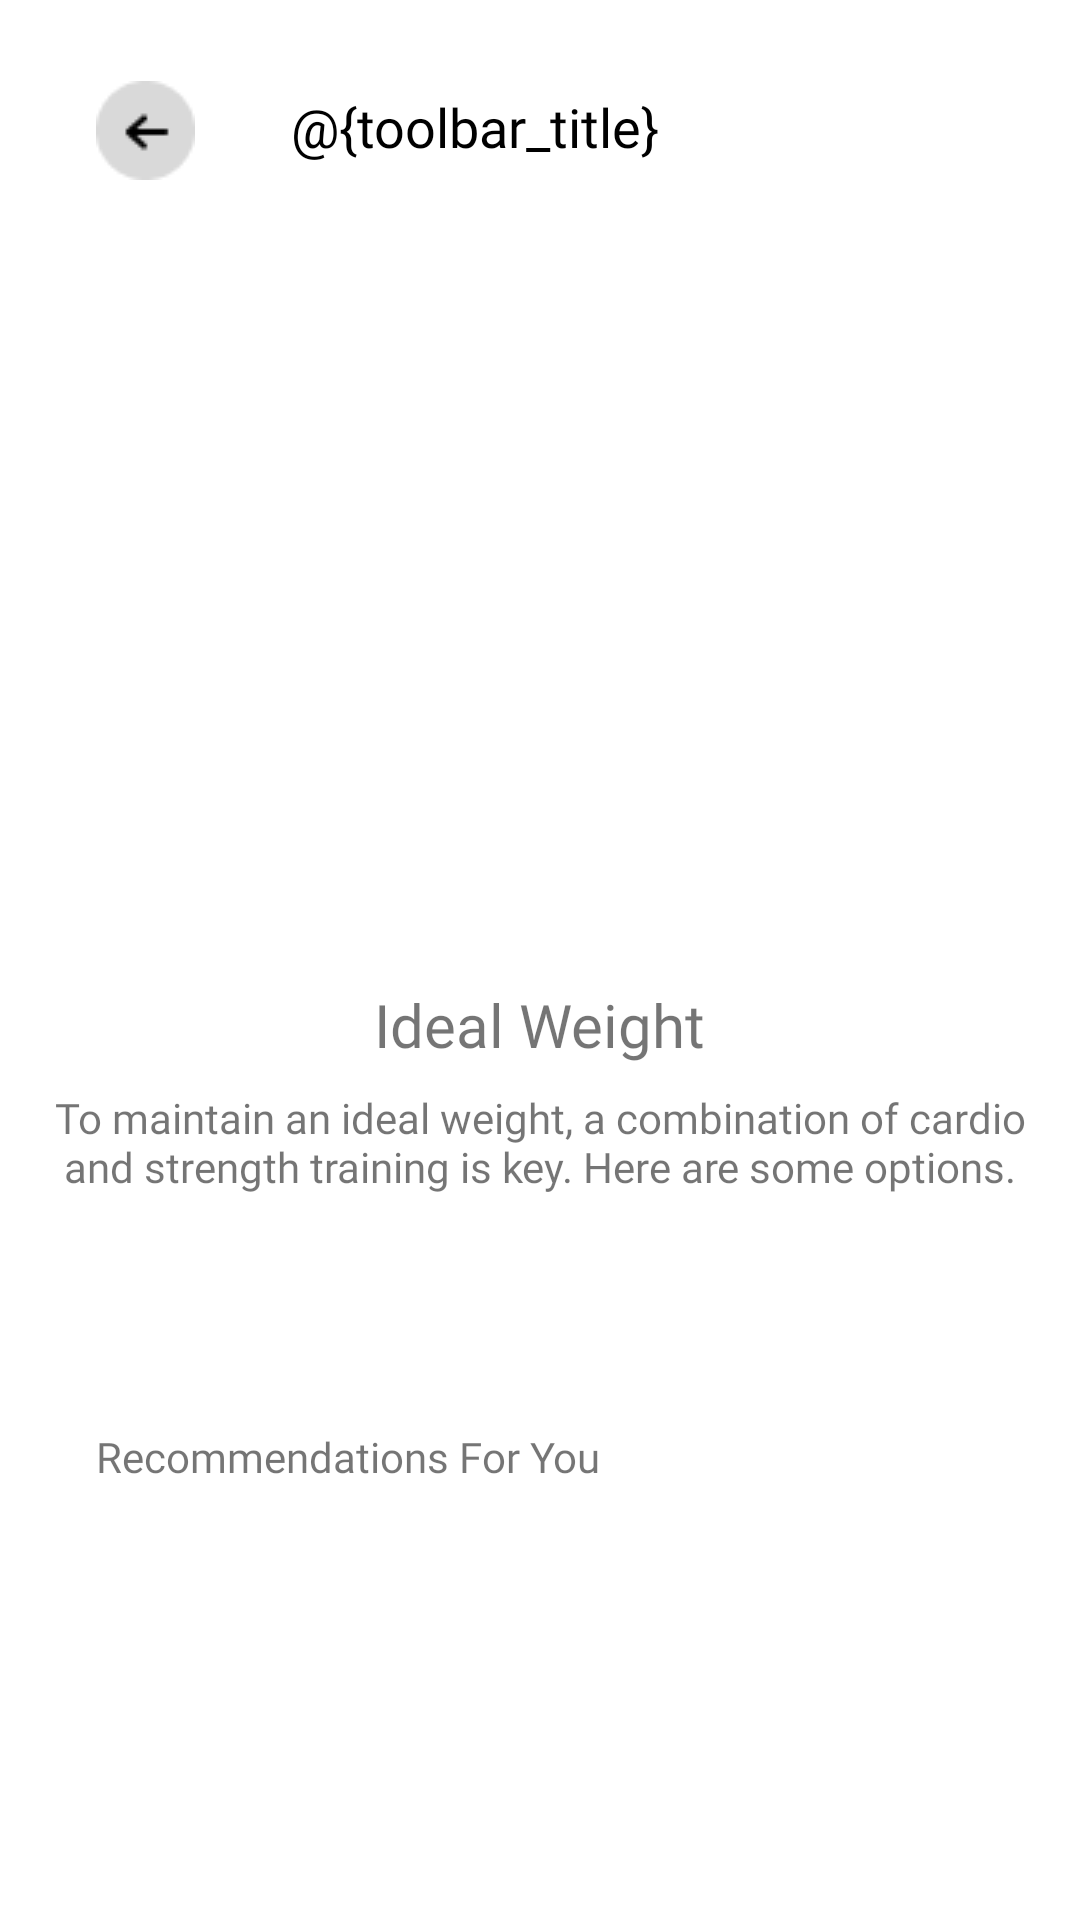

Screen size 1080px×1920px. Icon name, then its box in pixels as bbox(x1, y1, x2, y2):
back: bbox(96, 81, 195, 180)
